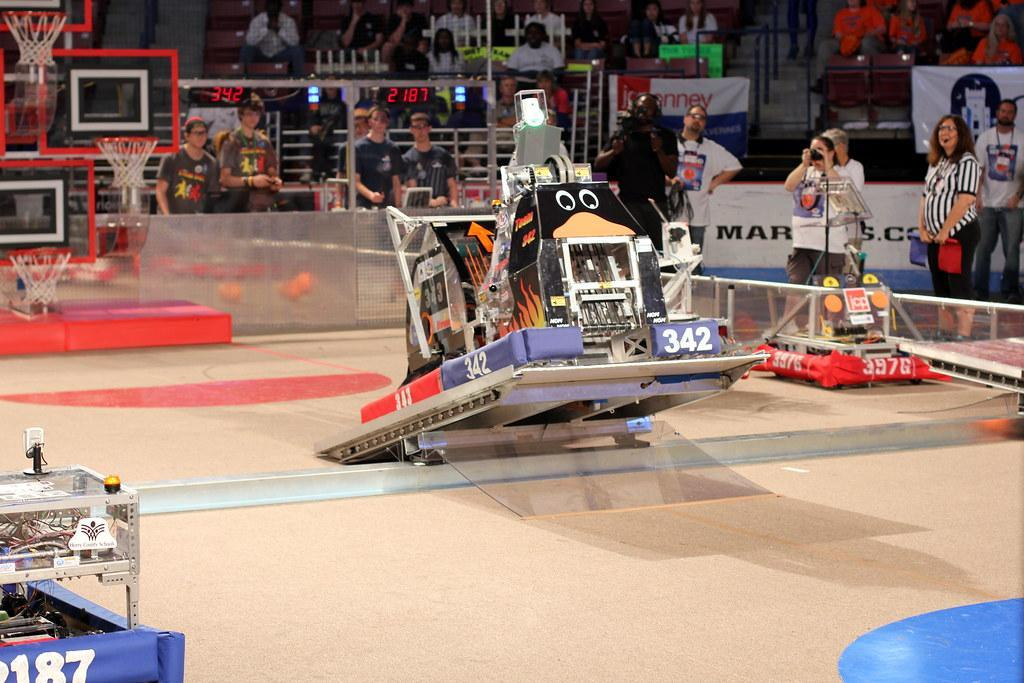robot: (443, 54, 734, 400), (356, 172, 560, 440), (746, 143, 953, 393), (0, 416, 190, 683)
